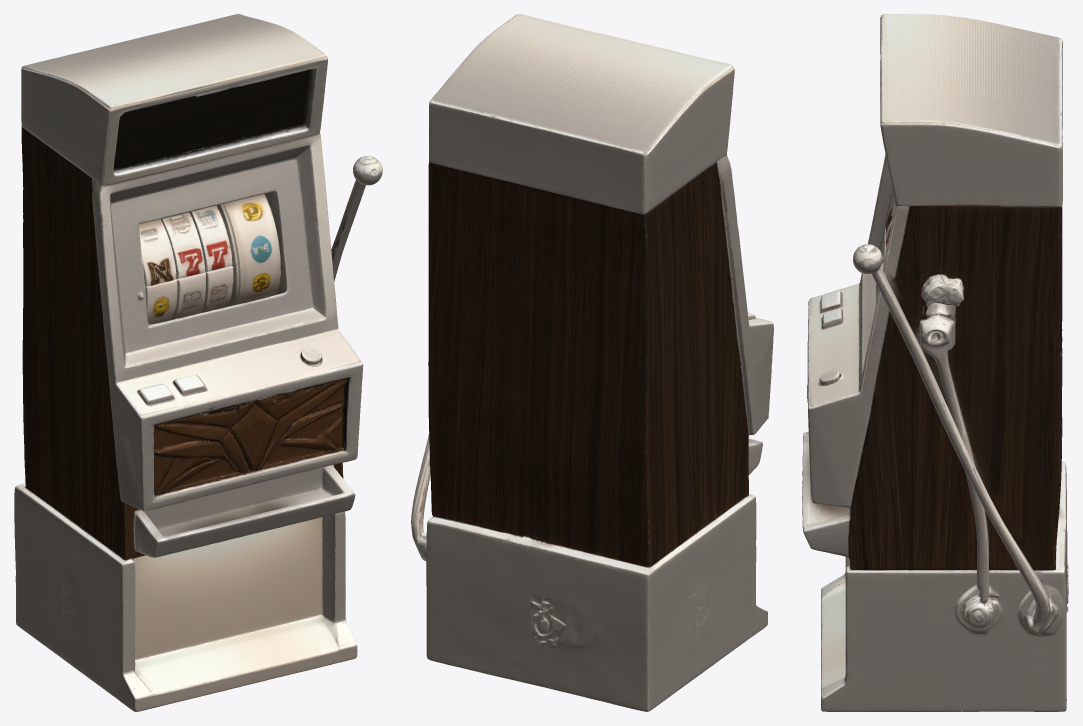
Rendered from user_plays.glb.
3 renders of one model, left to right at view 1: azimuth 30°, elevation 25°; view 2: azimuth 150°, elevation 25°; view 3: azimuth 270°, elevation 25°, orthographic.
Visible parts, largest first — view 1: world; view 2: world; view 3: world.
Boxes of the visible parts, <box> form: world: <box>14,14,382,711</box>; world: <box>411,14,773,711</box>; world: <box>802,14,1068,711</box>.
Size of the model in its own units: 0.9624 by 1.99 by 0.8126.
1 material, 1 textured.
